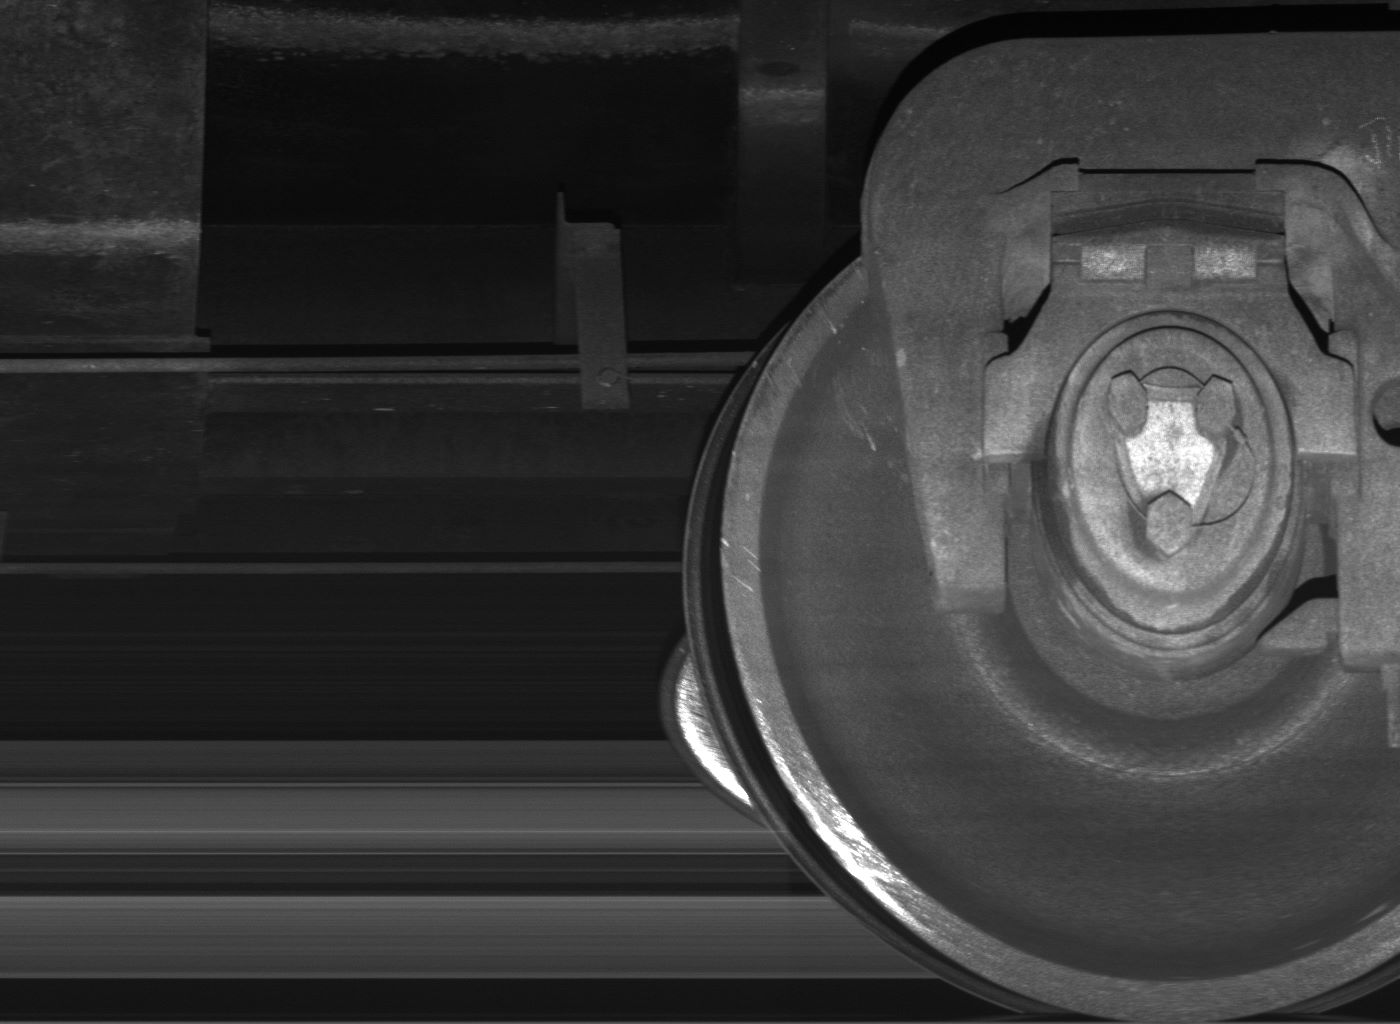normal: (555, 191, 629, 412)
